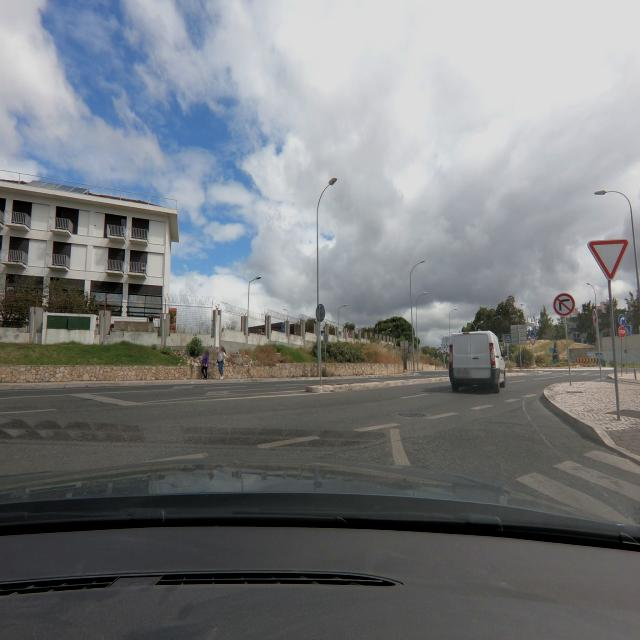car: (448, 329, 506, 392)
